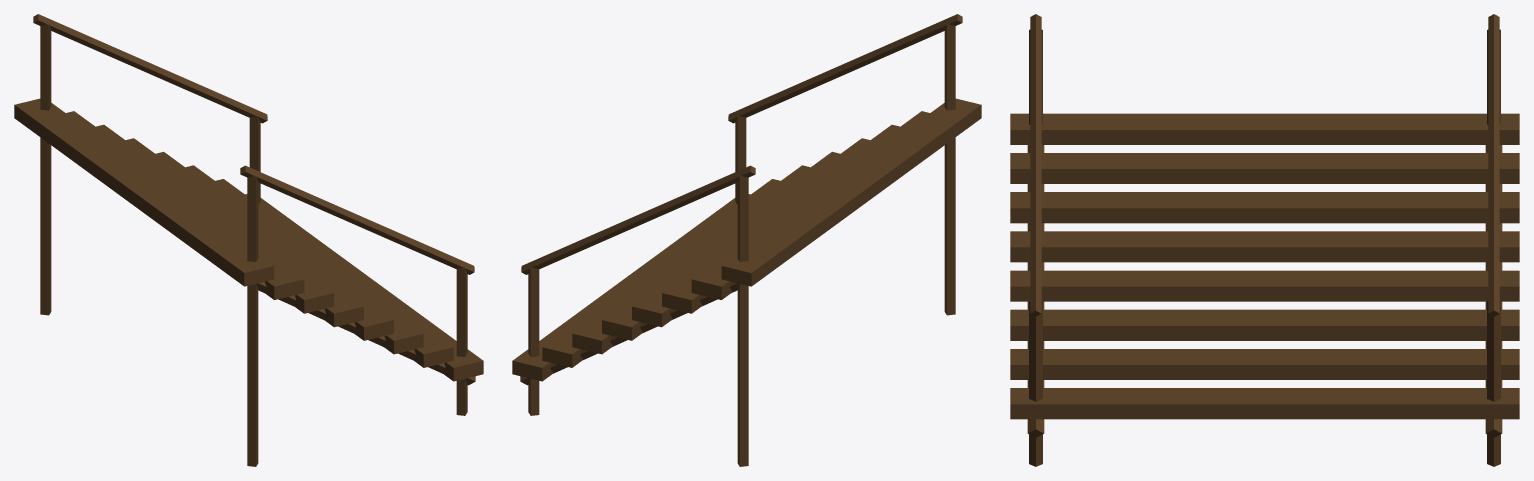
File: landing-near.glb
The picture shows the model from 3 angles, left to right: view 1: azimuth 30°, elevation 25°; view 2: azimuth 150°, elevation 25°; view 3: azimuth 270°, elevation 25°; orthographic projection. The views are drawn at different scales.
Visible parts, largest first — view 1: landing-near; view 2: landing-near; view 3: landing-near.
Part boxes in pixels (x1=…): landing-near: x1=14, y1=14, x2=483, y2=466; landing-near: x1=512, y1=14, x2=981, y2=466; landing-near: x1=1010, y1=14, x2=1519, y2=466.
Size of the model in its own units: 2.44 by 2.89 by 4.
